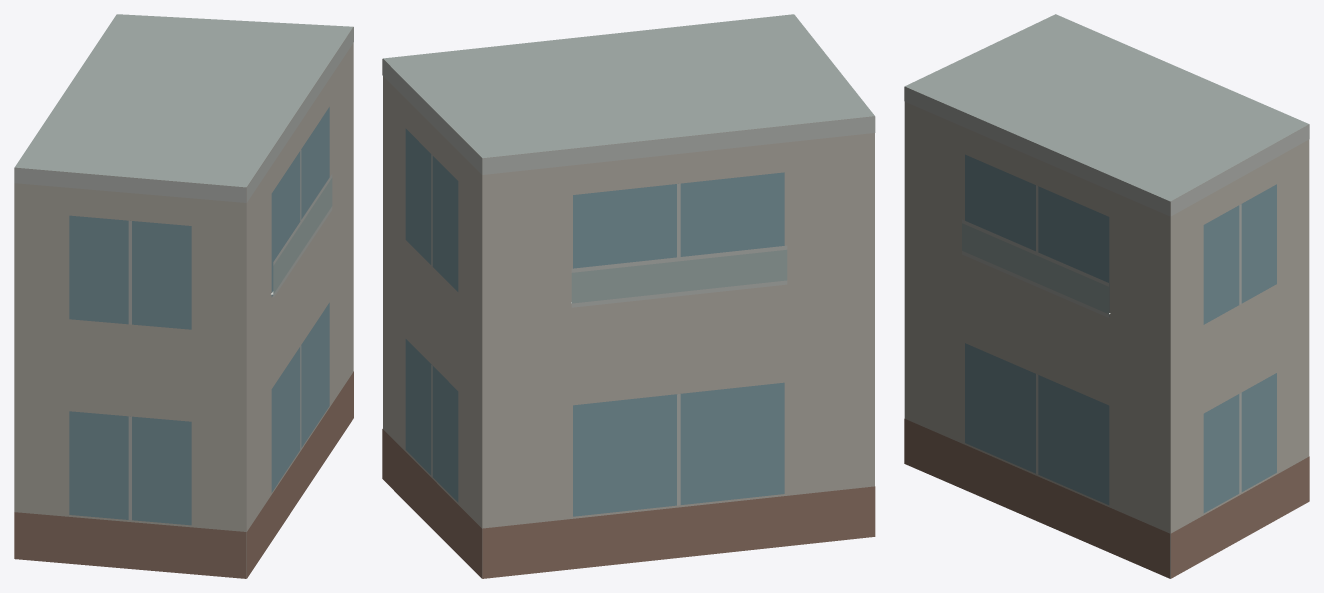
Rendered from survey-upis-32945352.glb.
3 views of the same model, side by side, from view 1: azimuth 30°, elevation 25°; view 2: azimuth 150°, elevation 25°; view 3: azimuth 270°, elevation 25° (orthographic). The views are drawn at different scales.
Visible parts, largest first — view 1: survey-upis-32945352.tmp; view 2: survey-upis-32945352.tmp; view 3: survey-upis-32945352.tmp.
Boxes of the visible parts, x1=… form: survey-upis-32945352.tmp: x1=14, y1=14, x2=353, y2=578; survey-upis-32945352.tmp: x1=382, y1=14, x2=875, y2=578; survey-upis-32945352.tmp: x1=904, y1=14, x2=1309, y2=578.
Bounding box in the file's own units: 6.51 × 6.1 × 5.94.
